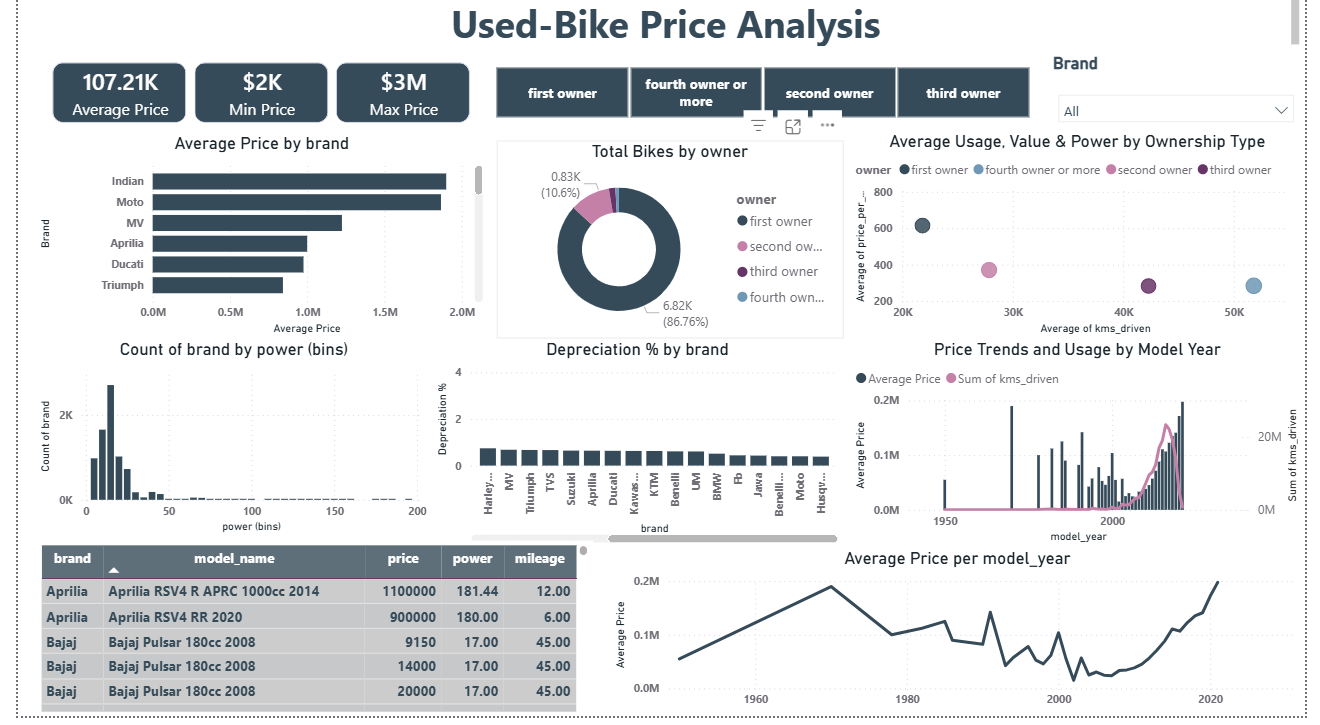

This screenshot's page, from the dashboard's own definition file:
{"tool":"powerbi","page":{"name":"Dashboard","canvas":[1280,720],"ordinal":9},"visuals":[{"type":"textbox","box":[17.4,0,1262.6,58],"z":0},{"type":"cardVisual","fields":{"Data":["cleaned_data.Average Price","cleaned_data.Min Price","cleaned_data.Max Price"]},"box":[17.4,52.2,450.3,94.5],"z":1000},{"type":"slicer","fields":{"Values":["cleaned_data.owner"]},"box":[455.3,59.7,570,66],"z":2000},{"type":"slicer","title":"Brand","fields":{"Values":["cleaned_data.brand"]},"box":[1025,59.7,255,77.1],"z":3000},{"type":"lineChart","title":"Average Price per model_year","fields":{"Category":["cleaned_data.model_year"],"Y":["cleaned_data.Average Price"]},"box":[589.6,552.3,690.4,167.9],"z":4000},{"type":"lineClusteredColumnComboChart","title":"Price Trends and Usage by Model Year","fields":{"Category":["cleaned_data.model_year"],"Y":["cleaned_data.Average Price"],"Y2":["Sum(cleaned_data.kms_driven)"]},"box":[828.5,344.6,451.6,207.7],"z":5000},{"type":"clusteredColumnChart","fields":{"Category":["cleaned_data.brand"],"Y":["cleaned_data.Depreciation %"]},"box":[411.8,344.6,409.3,207.7],"z":6000},{"type":"columnChart","fields":{"Category":["cleaned_data.power (bins)"],"Y":["CountNonNull(cleaned_data.brand)"]},"box":[17.4,344.6,394.3,197.8],"z":7000},{"type":"clusteredBarChart","fields":{"Category":["cleaned_data.brand"],"Y":["cleaned_data.Average Price"]},"box":[17.4,139.3,450.3,205.3],"z":8000},{"type":"tableEx","fields":{"Values":["cleaned_data.brand","cleaned_data.model_name","cleaned_data.price","cleaned_data.power","cleaned_data.mileage"]},"box":[17.4,544.9,554.8,175.4],"z":9000},{"type":"donutChart","title":"Total Bikes by owner","fields":{"Category":["cleaned_data.owner"],"Y":["cleaned_data.Total Records"]},"box":[476.4,146.8,344.6,197.8],"z":10000},{"type":"scatterChart","title":"Average Usage, Value & Power by Ownership Type","fields":{"X":["Avg(cleaned_data.kms_driven)"],"Y":["Avg(cleaned_data.price_per_cc)"],"Size":["Avg(cleaned_data.power)"],"Series":["cleaned_data.owner"]},"box":[828.5,136.8,451.6,207.7],"z":11000}]}

Visuals, with their boxes in screenshot pixels (x1, y1, x2, y2), scaled from the page's 1280x720 canvas onto the 1320x725 screenshot:
textbox: x1=18, y1=0, x2=1319, y2=58
cardVisual - cleaned_data.Average Price x cleaned_data.Min Price: x1=18, y1=53, x2=482, y2=148
slicer - cleaned_data.owner: x1=470, y1=60, x2=1057, y2=127
"Brand" slicer: x1=1057, y1=60, x2=1319, y2=138
"Average Price per model_year" lineChart: x1=608, y1=556, x2=1319, y2=724
"Price Trends and Usage by Model Year" lineClusteredColumnComboChart: x1=854, y1=347, x2=1319, y2=556
clusteredColumnChart - cleaned_data.brand x cleaned_data.Depreciation %: x1=425, y1=347, x2=847, y2=556
columnChart - cleaned_data.power (bins) x CountNonNull(cleaned_data.brand): x1=18, y1=347, x2=425, y2=546
clusteredBarChart - cleaned_data.brand x cleaned_data.Average Price: x1=18, y1=140, x2=482, y2=347
tableEx - cleaned_data.brand x cleaned_data.model_name: x1=18, y1=549, x2=590, y2=724
"Total Bikes by owner" donutChart: x1=491, y1=148, x2=847, y2=347
"Average Usage, Value & Power by Ownership Type" scatterChart: x1=854, y1=138, x2=1319, y2=347
